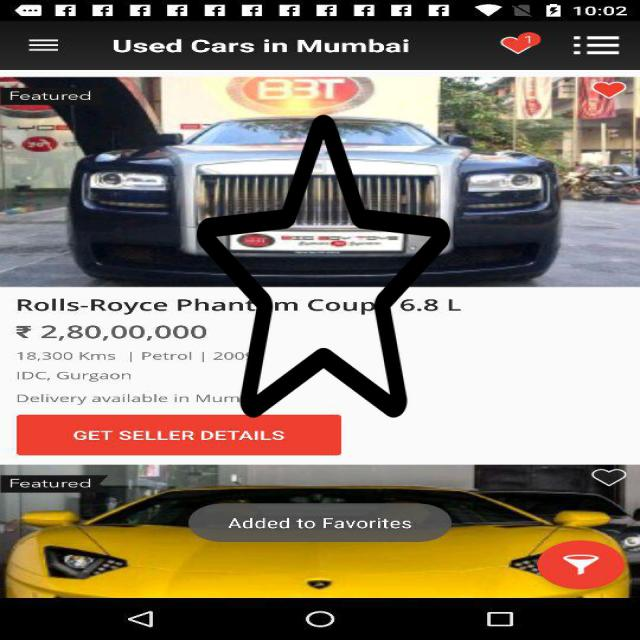forced continuity: (197, 108, 450, 424)
